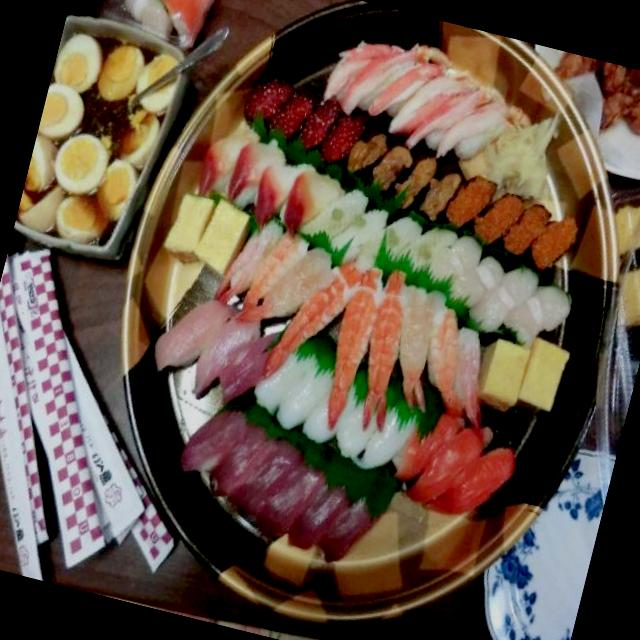Sushi: (150, 0, 615, 534)
